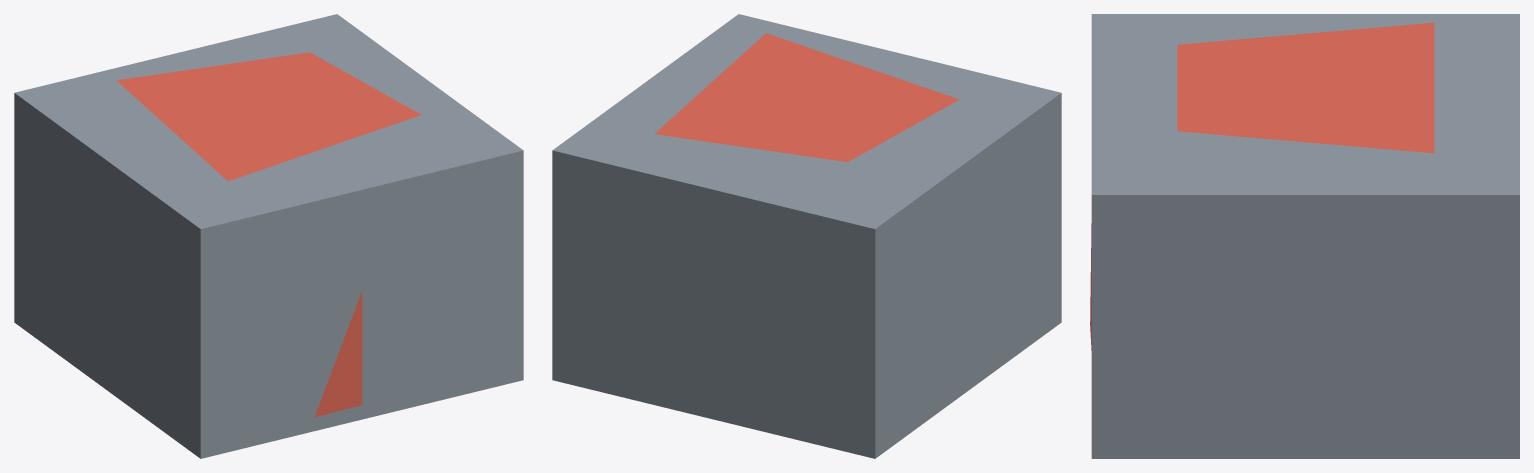
The model's file is SU_SuperweaponDome_LOD1.glb.
3 views of the same model, side by side, from view 1: azimuth 30°, elevation 25°; view 2: azimuth 150°, elevation 25°; view 3: azimuth 270°, elevation 25° (orthographic). The views are drawn at different scales.
Visible parts, largest first — view 1: EntranceGate; view 2: EntranceGate; view 3: EntranceGate.
Part boxes in pixels (x1,y1,x2,y2): EntranceGate: (14,14,523,458); EntranceGate: (552,14,1061,458); EntranceGate: (1090,14,1519,458).
Bounding box in the file's own units: 1000 × 751 × 1003.
